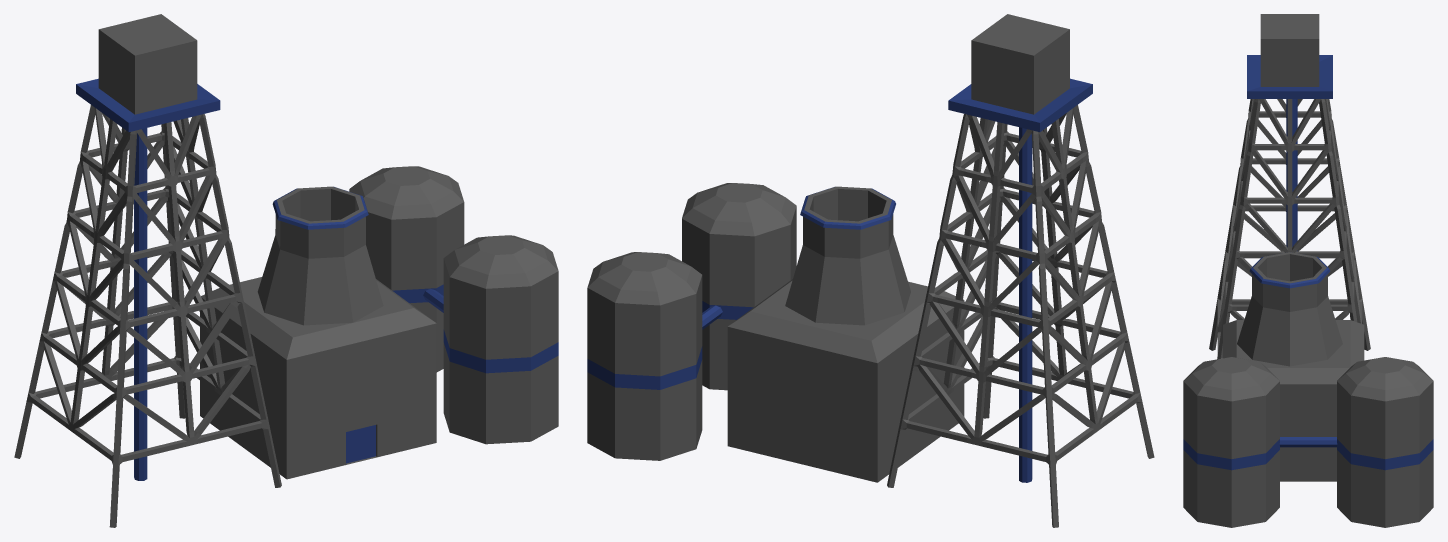
File: A Refinery model.fbx
3 views of the same model, side by side, from view 1: azimuth 30°, elevation 25°; view 2: azimuth 150°, elevation 25°; view 3: azimuth 270°, elevation 25° (orthographic). The views are drawn at different scales.
Visible parts, largest first — view 1: Refinary; view 2: Refinary; view 3: Refinary.
Boxes of the visible parts, x1,y1,x2,y2 form: Refinary: [14, 14, 558, 527]; Refinary: [587, 14, 1154, 527]; Refinary: [1183, 14, 1433, 527].
Size of the model in its own units: 1287 by 1197 by 754.
